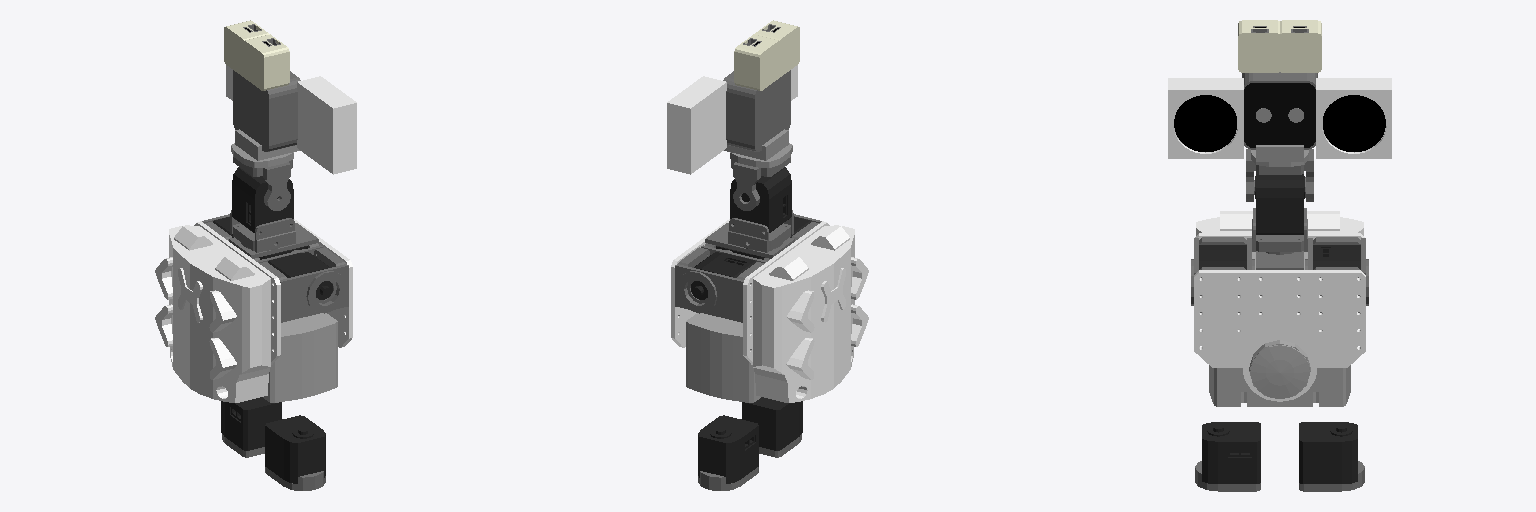
URDF robot description (kxrl2l2a6h2m):
<?xml version="1.0"?>
<robot name="kxrl2l2a6h2m"
       xmlns:xi="http://www.w3.org/2001/XInclude">
  <link name="bodyset94472077639384">
    <visual>
      <origin xyz="0 0 0.1205" rpy="0 -0 0"/>
      <geometry>
        <mesh filename="package://kxr_models/meshes/kxrl2l2a6h2m/bodyset94472077639384_mesh.dae" scale="1 1 1" />
      </geometry>
    </visual>
    <collision>
      <origin xyz="0 0 0.1205" rpy="0 -0 0"/>
      <geometry>
        <mesh filename="package://kxr_models/meshes/kxrl2l2a6h2m/bodyset94472077639384_mesh.dae" scale="1 1 1" />
      </geometry>
    </collision>
    <inertial>
      <mass value="0.437124" />
      <origin xyz="-0.005319 2.13443e-10 0.029207" rpy="0 -0 0"/>
      <inertia ixx="0.001306" ixy="-8.28224e-06" ixz="-1.69917e-06" iyy="0.001381" iyz="1.4569e-06" izz="0.002216"/>
    </inertial>
  </link>
  <link name="HEAD_LINK0">
    <visual>
      <origin xyz="-0.00725 0 0.084" rpy="0 -0 0"/>
      <geometry>
        <mesh filename="package://kxr_models/meshes/kxrl2l2a6h2m/HEAD_LINK0_mesh.dae" scale="1 1 1" />
      </geometry>
    </visual>
    <collision>
      <origin xyz="-0.00725 0 0.084" rpy="0 -0 0"/>
      <geometry>
        <mesh filename="package://kxr_models/meshes/kxrl2l2a6h2m/HEAD_LINK0_mesh.dae" scale="1 1 1" />
      </geometry>
    </collision>
    <inertial>
      <mass value="0.037398" />
      <origin xyz="0 1.22056e-18 0.023093" rpy="0 -0 0"/>
      <inertia ixx="6.28707e-05" ixy="3.12188e-21" ixz="8.61164e-09" iyy="6.69539e-05" iyz="-5.25778e-09" izz="2.5436e-05"/>
    </inertial>
  </link>
  <link name="HEAD_LINK1">
    <visual>
      <origin xyz="0 0 0.036" rpy="0 -0 0"/>
      <geometry>
        <mesh filename="package://kxr_models/meshes/kxrl2l2a6h2m/HEAD_LINK1_mesh.dae" scale="1 1 1" />
      </geometry>
    </visual>
    <collision>
      <origin xyz="0 0 0.036" rpy="0 -0 0"/>
      <geometry>
        <mesh filename="package://kxr_models/meshes/kxrl2l2a6h2m/HEAD_LINK1_mesh.dae" scale="1 1 1" />
      </geometry>
    </collision>
    <inertial>
      <mass value="0.160516" />
      <origin xyz="0.001469 -6.19726e-19 0.171559" rpy="0 -0 0"/>
      <inertia ixx="0.00092" ixy="-1.79922e-07" ixz="-6.65543e-08" iyy="0.000849" iyz="-1.79583e-08" izz="0.000187"/>
    </inertial>
  </link>
  <joint name="HEAD_JOINT0" type="revolute">
    <parent link="bodyset94472077639384"/>
    <child  link="HEAD_LINK0"/>
    <origin xyz="-0.00725 0 0.084" rpy="0 -0 0 "/>
    <axis   xyz="0 0 -1"/>
    <limit lower="-2.96706" upper="2.96706" effort="0.656248" velocity="7.47998" />
    <dynamics damping="0.2" friction="0" />
  </joint>
  <joint name="HEAD_JOINT1" type="revolute">
    <parent link="HEAD_LINK0"/>
    <child  link="HEAD_LINK1"/>
    <origin xyz="0 0 0.036" rpy="0 -0 0 "/>
    <axis   xyz="0 -1 0"/>
    <limit lower="-2.0944" upper="2.0944" effort="0.656248" velocity="7.47998" />
    <dynamics damping="0.2" friction="0" />
  </joint>
</robot>

--- Facts derived from the render (not from the file) ---
3 views of the same robot in one strip: view 1: azimuth 30°, elevation 25°; view 2: azimuth 150°, elevation 25°; view 3: azimuth 270°, elevation 25° (orthographic).
Robot: kxrl2l2a6h2m — 3 links, 2 joints (2 revolute); root link bodyset94472077639384; default pose: every joint at zero.
Visible links, largest first — view 1: bodyset94472077639384, HEAD_LINK1, HEAD_LINK0; view 2: bodyset94472077639384, HEAD_LINK1, HEAD_LINK0; view 3: bodyset94472077639384, HEAD_LINK1, HEAD_LINK0.
Link boxes in pixels (bbox=[...]): bodyset94472077639384: bbox=[155, 214, 352, 490]; HEAD_LINK1: bbox=[224, 20, 356, 210]; HEAD_LINK0: bbox=[230, 167, 295, 252]; bodyset94472077639384: bbox=[671, 214, 868, 490]; HEAD_LINK1: bbox=[667, 20, 799, 210]; HEAD_LINK0: bbox=[728, 167, 793, 252]; bodyset94472077639384: bbox=[1191, 211, 1368, 491]; HEAD_LINK1: bbox=[1168, 20, 1391, 201]; HEAD_LINK0: bbox=[1252, 174, 1307, 251].
Bounding box of the posed robot: 0.089 × 0.124 × 0.272 m (x, y, z).
Meshes: 3 distinct files referenced, 3 mesh visuals loaded (3 Collada DAE).